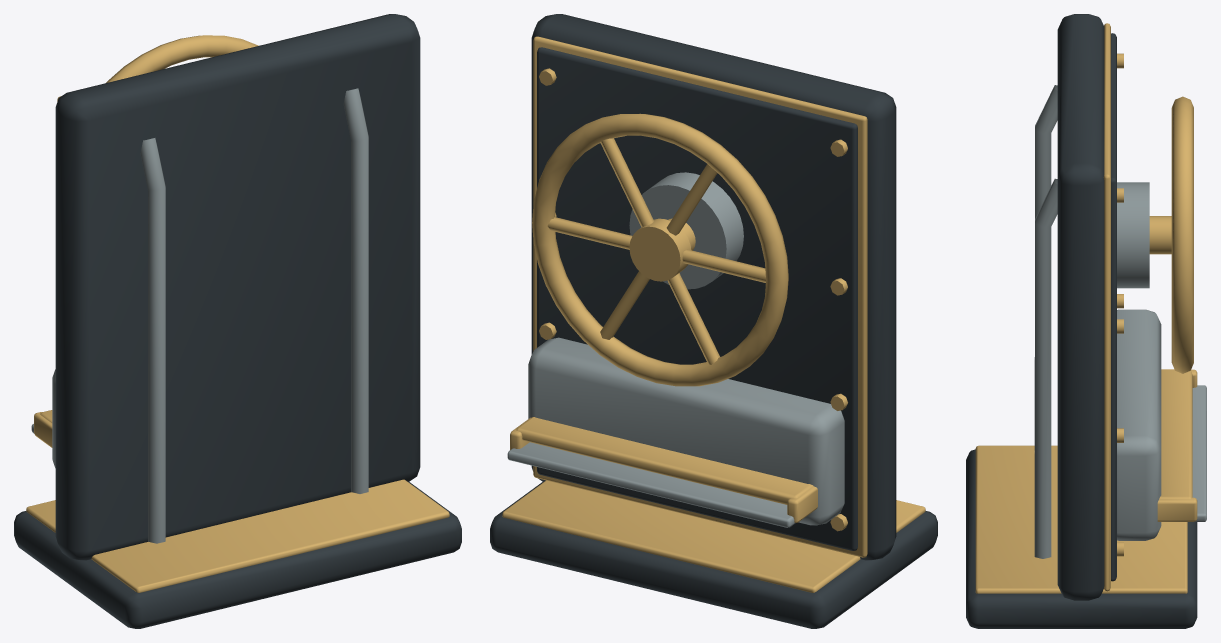
The model's file is spout-switchboard.glb.
The picture shows the model from 3 angles, left to right: view 1: azimuth 30°, elevation 25°; view 2: azimuth 150°, elevation 25°; view 3: azimuth 270°, elevation 25°; orthographic projection. The views are drawn at different scales.
Visible parts, largest first — view 1: switchboard_panel, switchboard_brass, switchboard_steel; view 2: switchboard_panel, switchboard_brass, switchboard_steel; view 3: switchboard_panel, switchboard_brass, switchboard_steel.
Boxes of the visible parts, x1,y1,x2,y2 form: switchboard_panel: (14,14,461,628); switchboard_brass: (26,35,449,592); switchboard_steel: (31,88,368,543); switchboard_panel: (490,14,937,628); switchboard_brass: (502,36,925,592); switchboard_steel: (507,172,844,527); switchboard_panel: (966,14,1197,628); switchboard_brass: (975,23,1197,593); switchboard_steel: (1034,85,1206,558).
Bounding box in the file's own units: 8 × 10.7 × 5.
